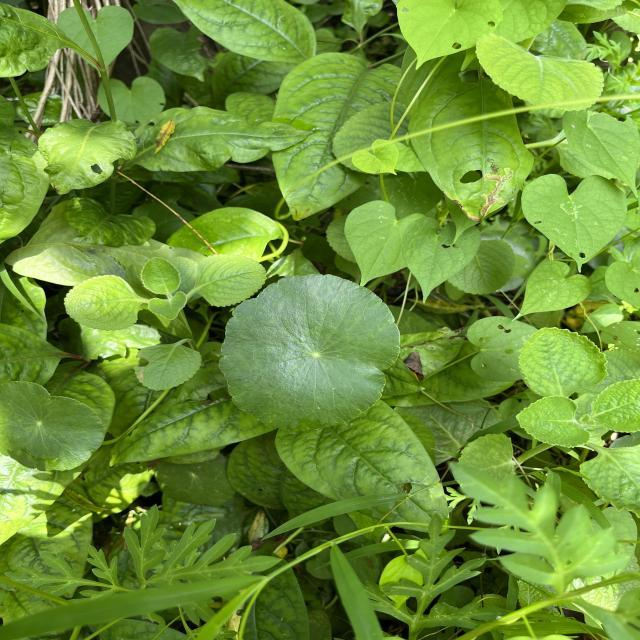Bacopa monnieri: (216, 270, 404, 434), (0, 378, 109, 474)
